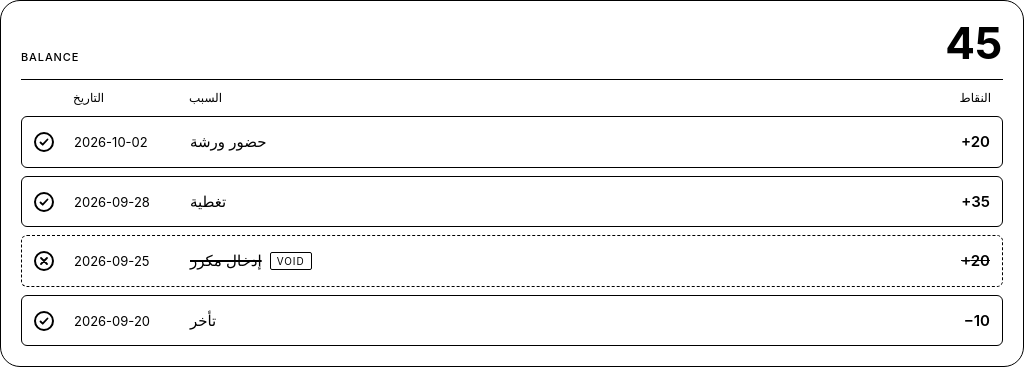
PointsLedger › cancels a row without deleting it, then restores it
The image size is (1024, 387).
Click the button "2026-09-28 تغطية +35": (112, 202) [21,176,1003,227]
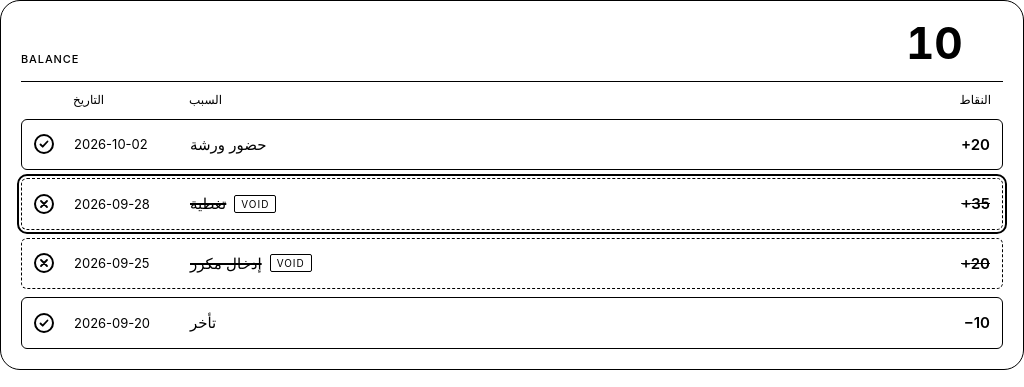
Result: the text with test id "ledger-balance" reads "10" at [906,16,963,70]
Result: the button "2026-09-28 تغطية VOID +35" is shown
Click the button "2026-09-28 تغطية VOID +35": (112, 204) [21,178,1003,230]
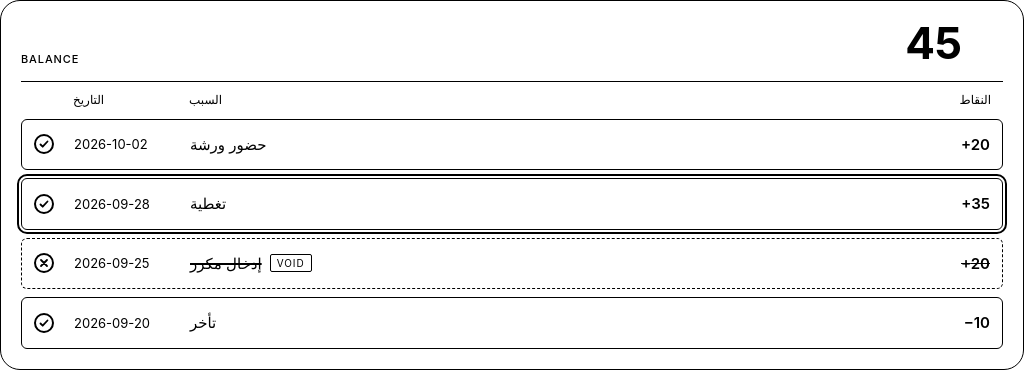
Result: the text with test id "ledger-balance" reads "45" at [906,16,963,70]
